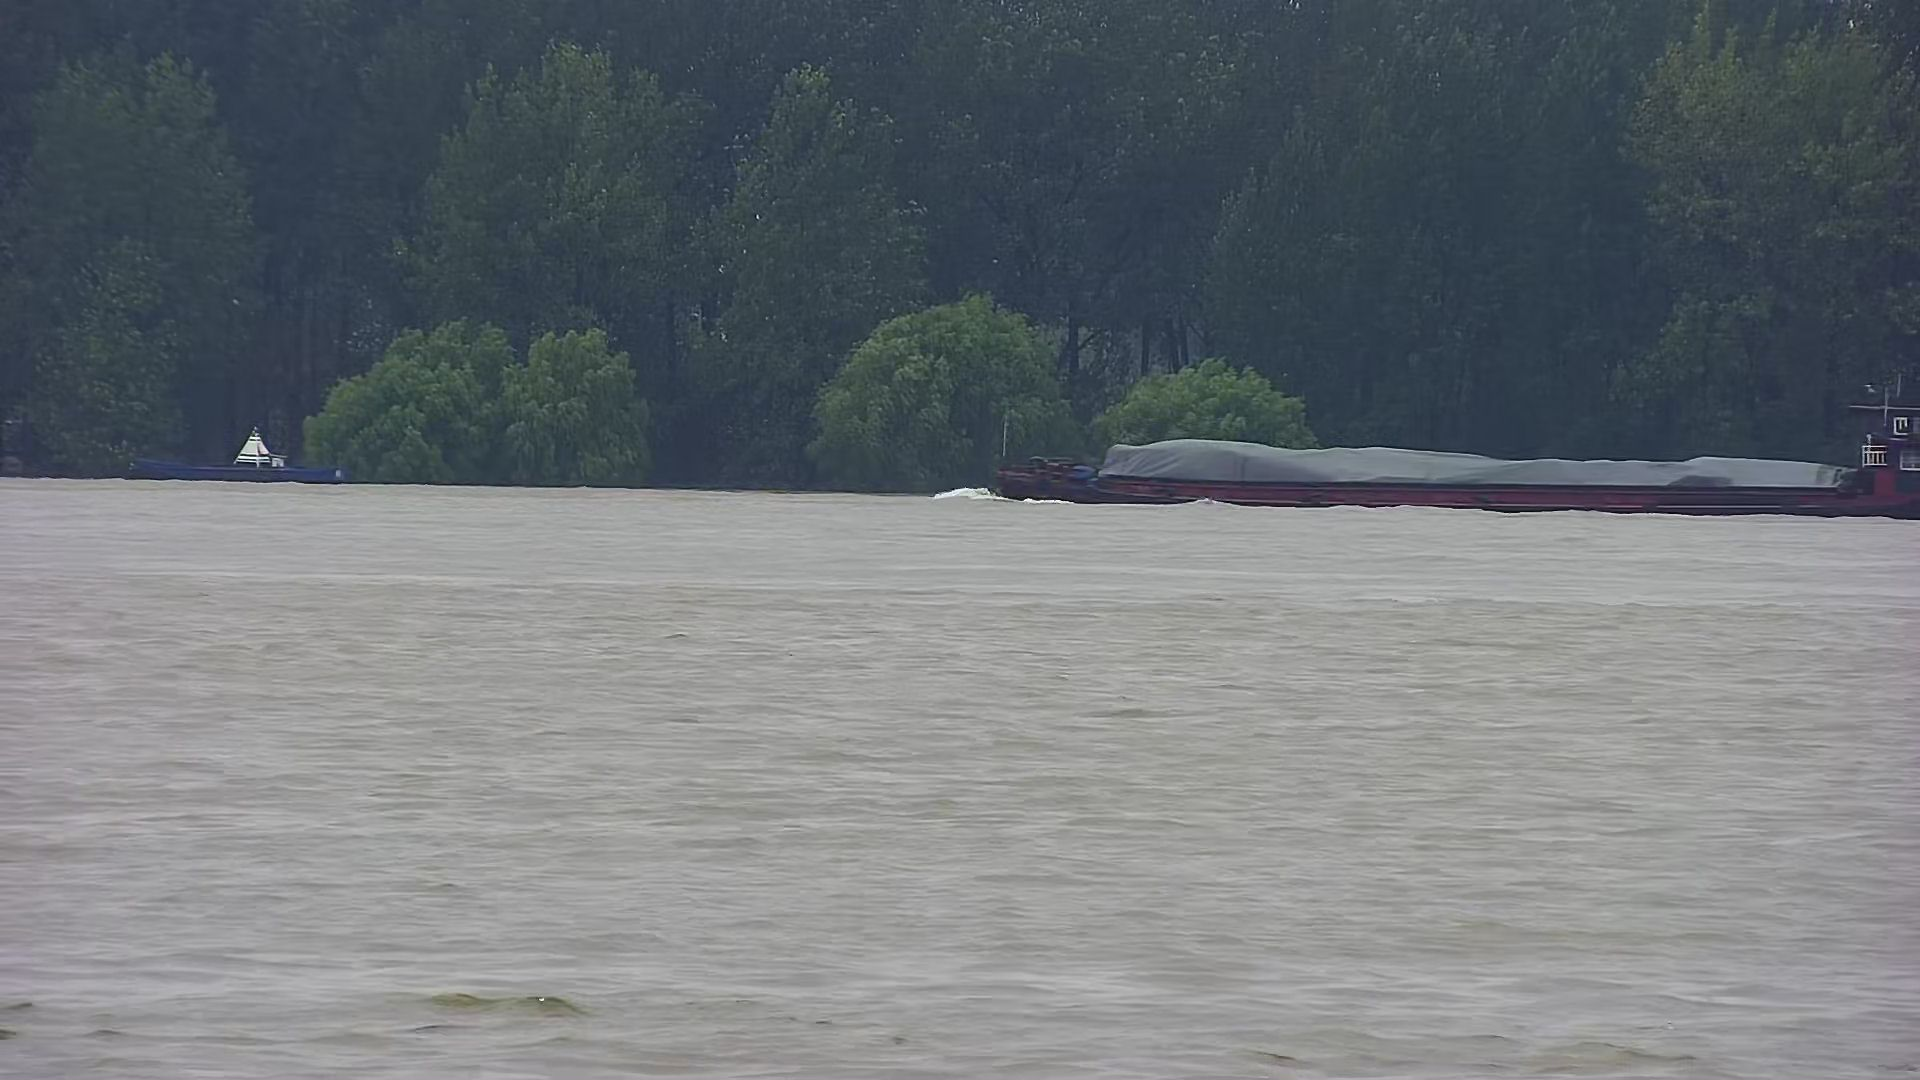boat: (113, 417, 345, 492)
ship: (951, 378, 1920, 527)
